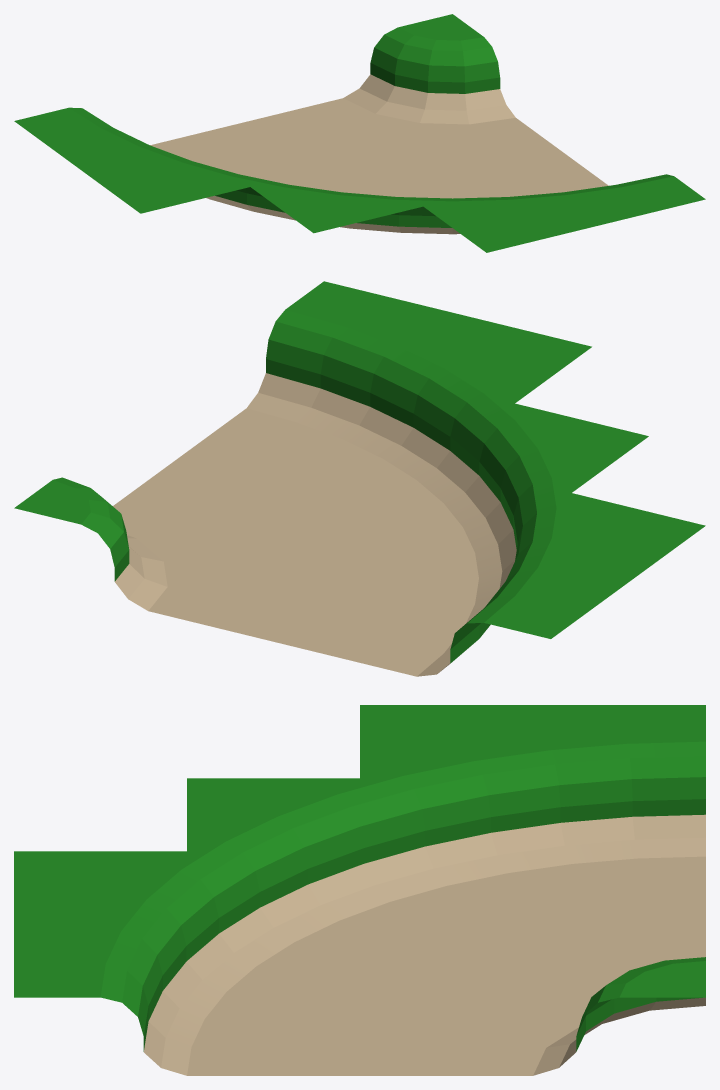
The model's file is Track_Standard_Curve_Double_4x4.obj.
3 views of the same model, one above another, from view 1: azimuth 30°, elevation 25°; view 2: azimuth 150°, elevation 25°; view 3: azimuth 270°, elevation 25° (orthographic). The views are drawn at different scales.
Parts seen in each view (by area): view 1: Grass, Dirt; view 2: Dirt, Grass; view 3: Dirt, Grass.
Part boxes in pixels (<box>): Grass: <box>14,14,705,252</box>; Dirt: <box>150,74,608,234</box>; Dirt: <box>113,373,516,676</box>; Grass: <box>14,281,705,663</box>; Dirt: <box>144,814,705,1075</box>; Grass: <box>14,705,705,1051</box>.
Size of the model in its own units: 4 by 0.5 by 4.
